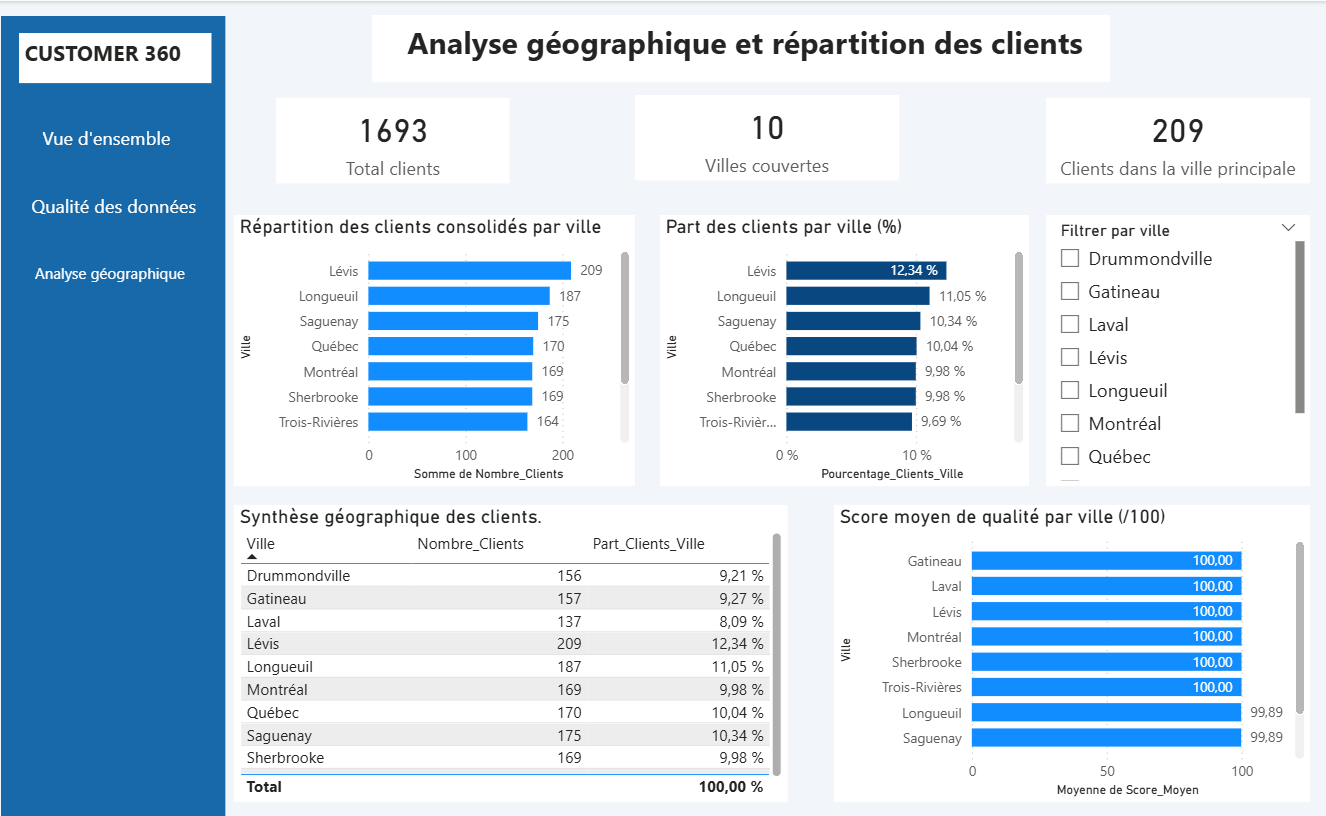

This screenshot's page, from the dashboard's own definition file:
{"tool":"powerbi","page":{"name":"Analyse géographique des clients","canvas":[1280,720],"ordinal":2},"visuals":[{"type":"shape","box":[18.4,12.8,197,707.2],"z":0},{"type":"textbox","box":[34,28.3,168.7,43.9],"z":1000},{"type":"actionButton","box":[28.3,80.8,165.8,79.4],"z":2000},{"type":"actionButton","box":[32.6,160.2,170.1,39.7],"z":3000},{"type":"textbox","box":[344.3,12.6,647.8,59.3],"z":4000},{"type":"card","fields":{"Values":["Sum(vw_Customer360_Qualite_Villes.Nombre_Clients)"]},"box":[259.9,85.2,205.5,74.6],"z":4001},{"type":"card","fields":{"Values":["Count(vw_Customer360_Qualite_Villes.Ville)"]},"box":[575.1,82.5,231.8,74.6],"z":4002},{"type":"card","fields":{"Values":["vw_Customer360_Qualite_Villes.Max_Clients_Ville"]},"box":[936,85.2,231.8,74.6],"z":4003},{"type":"clusteredBarChart","title":"Répartition des clients consolidés par ville","fields":{"Category":["vw_Customer360_Qualite_Villes.Ville"],"Y":["Sum(vw_Customer360_Qualite_Villes.Nombre_Clients)"]},"box":[223,187.9,352.1,238],"z":4004},{"type":"clusteredBarChart","title":"Part des clients par ville (%)","fields":{"Category":["vw_Customer360_Qualite_Villes.Ville"],"Y":["vw_Customer360_Qualite_Villes.Pourcentage_Clients_Ville"]},"box":[597.1,187.9,324,238],"z":4005},{"type":"tableEx","title":"Synthèse géographique des clients.","fields":{"Values":["vw_Customer360_Qualite_Villes.Ville","vw_Customer360_Qualite_Villes.Nombre_Clients","vw_Customer360_Qualite_Villes.Part_Clients_Ville"]},"box":[223,442.5,485.6,260.8],"z":4006},{"type":"clusteredBarChart","title":"Score moyen de qualité par ville (/100)","fields":{"Category":["vw_Customer360_Qualite_Villes.Ville"],"Y":["Avg(vw_Customer360_Qualite_Villes.Score_Moyen)"]},"box":[749.9,442.5,418,260.8],"z":4007},{"type":"slicer","fields":{"Values":["vw_Customer360_Qualite_Villes.Ville"]},"box":[936,187.9,231.8,238],"z":4008},{"type":"actionButton","box":[34.2,217.8,159.8,40.4],"z":4009}]}

Visuals, with their boxes on the page's 1280x720 design canvas (x1, y1, x2, y2). These are canvas units, not pixel positions in the 1326x816 screenshot, which may show the page scaled, cropped or inside an application window:
shape: <region>18, 13, 215, 720</region>
textbox: <region>34, 28, 203, 72</region>
actionButton: <region>28, 81, 194, 160</region>
actionButton: <region>33, 160, 203, 200</region>
textbox: <region>344, 13, 992, 72</region>
card - Sum(vw_Customer360_Qualite_Villes.Nombre_Clients): <region>260, 85, 465, 160</region>
card - Count(vw_Customer360_Qualite_Villes.Ville): <region>575, 82, 807, 157</region>
card - vw_Customer360_Qualite_Villes.Max_Clients_Ville: <region>936, 85, 1168, 160</region>
"Répartition des clients consolidés par ville" clusteredBarChart: <region>223, 188, 575, 426</region>
"Part des clients par ville (%)" clusteredBarChart: <region>597, 188, 921, 426</region>
"Synthèse géographique des clients." tableEx: <region>223, 442, 709, 703</region>
"Score moyen de qualité par ville (/100)" clusteredBarChart: <region>750, 442, 1168, 703</region>
slicer - vw_Customer360_Qualite_Villes.Ville: <region>936, 188, 1168, 426</region>
actionButton: <region>34, 218, 194, 258</region>
